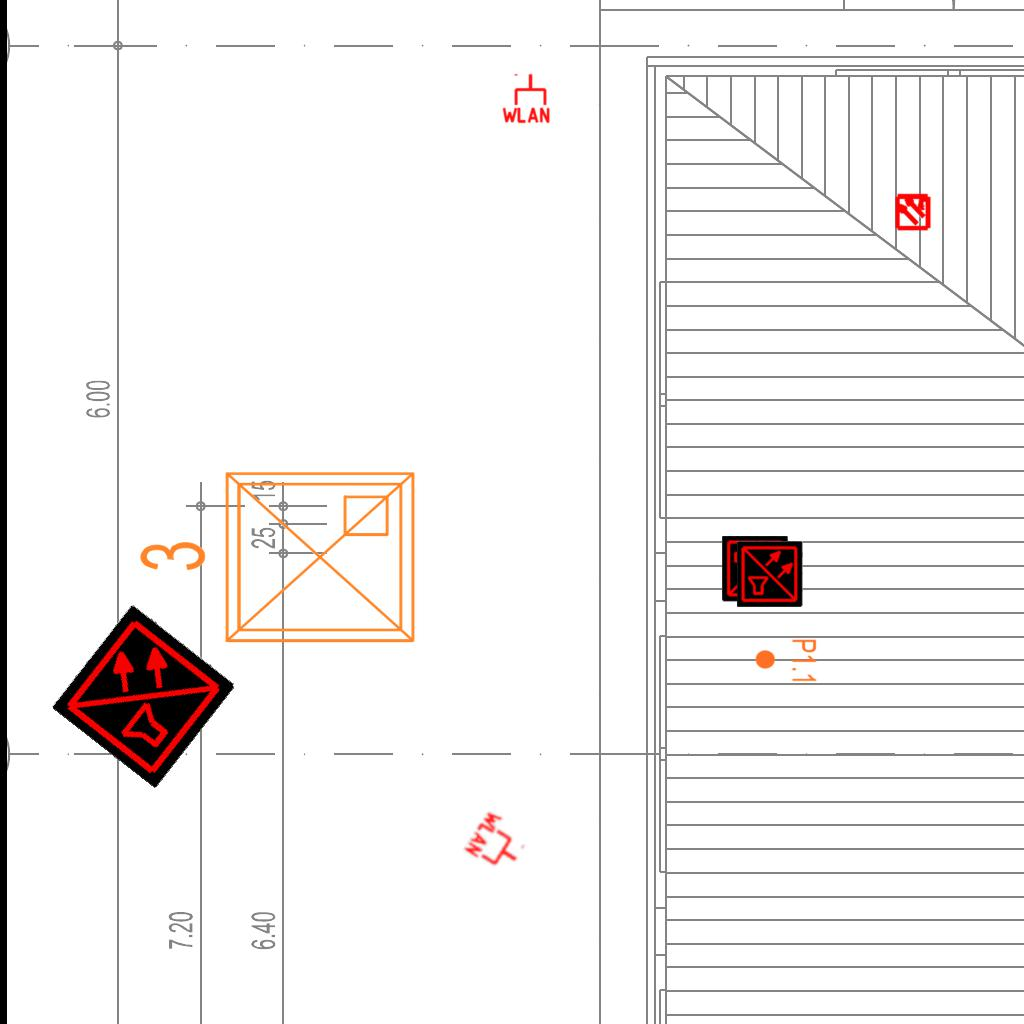Downlight_LED_Einbauleuchten_Flur: (754, 638, 818, 684)
Einbaudownlights_LED_Konferenzraeume: (129, 457, 429, 665)
OKW_Multisensormelder_(Kombination_optischer_Rauch-Kahlenmonoxid_Waerme-Melder): (51, 603, 237, 789), (722, 536, 788, 602), (737, 541, 803, 607)
OT_Multisensormelder_(Kombination_RMO_WMD): (885, 183, 941, 239)
WLAN: (462, 807, 534, 879), (500, 72, 552, 124)
